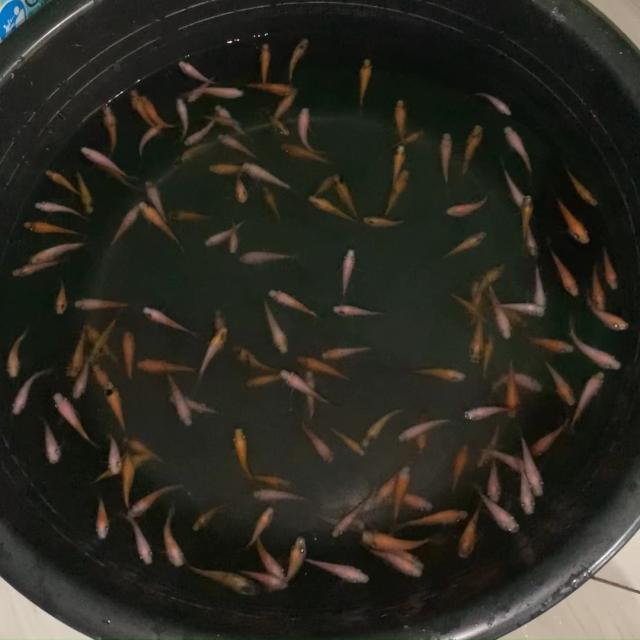nila: (50, 390, 104, 453), (566, 319, 624, 369), (137, 200, 186, 257), (184, 566, 264, 600), (475, 485, 522, 538), (568, 372, 606, 436), (278, 367, 336, 408), (139, 302, 201, 340), (92, 448, 152, 487), (10, 368, 56, 418), (78, 144, 140, 180), (242, 159, 302, 194), (303, 555, 369, 586), (560, 163, 602, 210), (196, 328, 231, 384), (394, 507, 472, 532), (332, 492, 374, 538), (128, 482, 180, 518), (555, 194, 591, 246), (540, 355, 574, 410), (545, 244, 580, 297), (506, 126, 538, 183), (518, 434, 546, 499), (106, 202, 143, 251), (90, 307, 123, 360), (296, 353, 352, 384), (86, 326, 122, 374), (93, 154, 138, 192), (91, 365, 129, 410), (268, 288, 321, 320), (278, 138, 334, 168), (528, 418, 570, 457), (162, 504, 186, 572), (436, 230, 486, 262), (362, 408, 400, 450), (519, 330, 580, 356), (280, 534, 308, 590), (124, 516, 154, 568), (306, 193, 353, 226), (262, 300, 290, 355), (584, 296, 628, 331), (388, 462, 412, 526), (138, 94, 178, 132), (486, 286, 514, 340), (232, 342, 276, 376), (102, 379, 128, 436), (377, 462, 412, 504), (359, 527, 429, 548), (231, 424, 255, 485), (299, 102, 327, 154), (240, 567, 290, 596), (216, 131, 262, 162), (30, 242, 89, 266), (382, 170, 410, 220), (6, 326, 34, 376), (256, 533, 286, 579), (166, 375, 192, 428), (398, 415, 453, 440), (373, 554, 425, 580), (332, 170, 359, 220), (32, 198, 85, 223), (468, 298, 488, 364), (236, 248, 302, 268), (8, 256, 68, 278), (458, 123, 483, 175), (485, 372, 544, 394), (214, 104, 250, 140), (454, 294, 493, 327), (482, 302, 529, 329), (115, 325, 138, 380), (475, 422, 501, 470), (67, 324, 90, 378), (118, 452, 138, 514), (248, 503, 276, 547), (122, 434, 166, 462), (98, 101, 122, 152), (460, 504, 481, 562), (191, 501, 230, 532), (442, 192, 492, 216), (200, 220, 248, 245), (71, 166, 95, 216), (243, 471, 300, 492), (38, 415, 61, 467), (302, 426, 334, 463), (505, 358, 525, 417), (184, 82, 246, 101), (328, 428, 367, 458), (144, 177, 168, 225), (299, 366, 320, 420), (128, 88, 156, 128), (394, 490, 437, 516), (599, 244, 622, 292), (269, 90, 298, 128), (518, 470, 540, 520), (356, 54, 374, 115), (451, 445, 471, 498), (288, 37, 311, 83), (531, 264, 554, 310), (186, 73, 218, 106), (134, 358, 204, 373), (46, 168, 82, 197), (177, 58, 217, 84), (474, 91, 514, 117), (320, 343, 372, 363), (588, 260, 608, 312), (387, 142, 408, 191), (169, 395, 229, 412), (474, 262, 502, 298), (21, 220, 79, 237), (136, 122, 163, 158), (90, 498, 112, 542), (517, 196, 533, 256), (486, 450, 534, 470), (250, 486, 310, 502), (74, 295, 134, 311), (499, 170, 524, 208), (389, 546, 426, 571), (407, 366, 473, 380), (332, 303, 389, 319), (316, 515, 369, 532), (464, 280, 482, 330), (486, 456, 504, 506), (339, 246, 357, 296), (495, 300, 547, 317), (242, 372, 294, 389), (104, 432, 124, 476), (72, 357, 92, 400), (164, 207, 217, 223), (465, 402, 512, 420), (392, 124, 427, 148), (311, 168, 339, 198), (264, 110, 293, 138), (359, 214, 408, 230), (262, 184, 282, 221), (180, 122, 213, 144), (178, 142, 214, 162), (245, 82, 295, 96), (394, 98, 407, 151), (481, 330, 494, 383), (259, 40, 273, 89), (206, 162, 251, 177), (440, 131, 452, 187), (416, 409, 430, 457), (176, 97, 190, 141), (205, 114, 248, 128), (522, 223, 538, 259), (234, 170, 249, 204), (228, 214, 238, 260), (54, 282, 66, 316), (211, 307, 226, 329)
